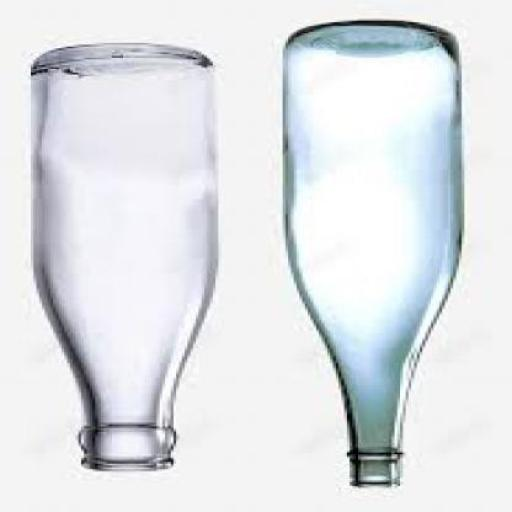glass: (277, 20, 459, 490), (28, 46, 212, 472)
